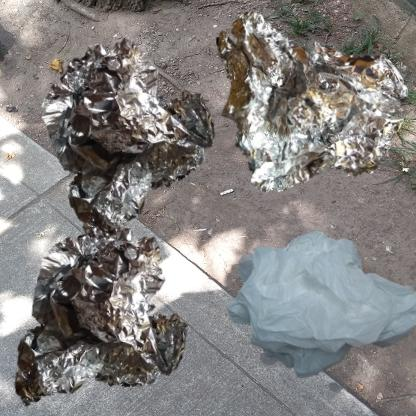aluminio: (10, 10, 272, 287), (10, 213, 204, 416), (213, 10, 409, 195)
bolsa: (213, 213, 416, 416)
